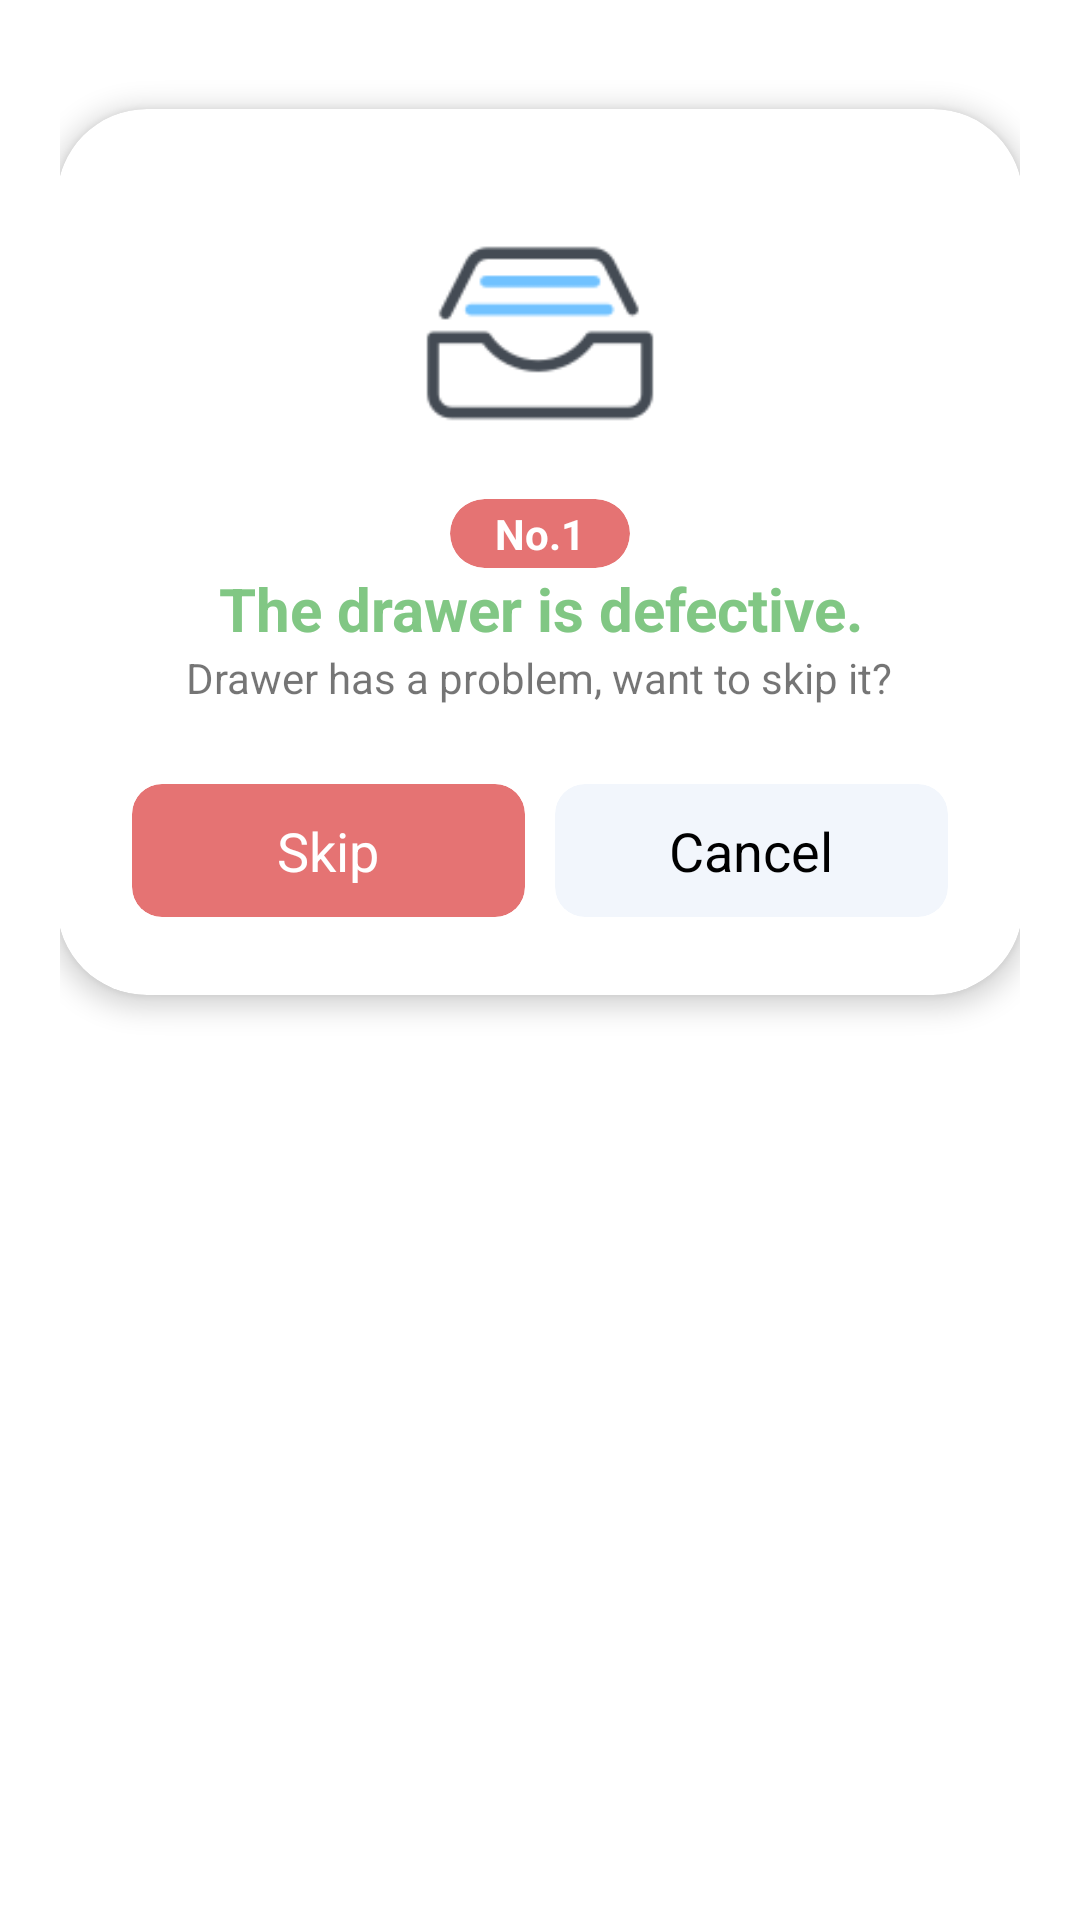

Named icons in this screenshot (1080×1920) and their centers, [x,y]:
box: [540,333]
